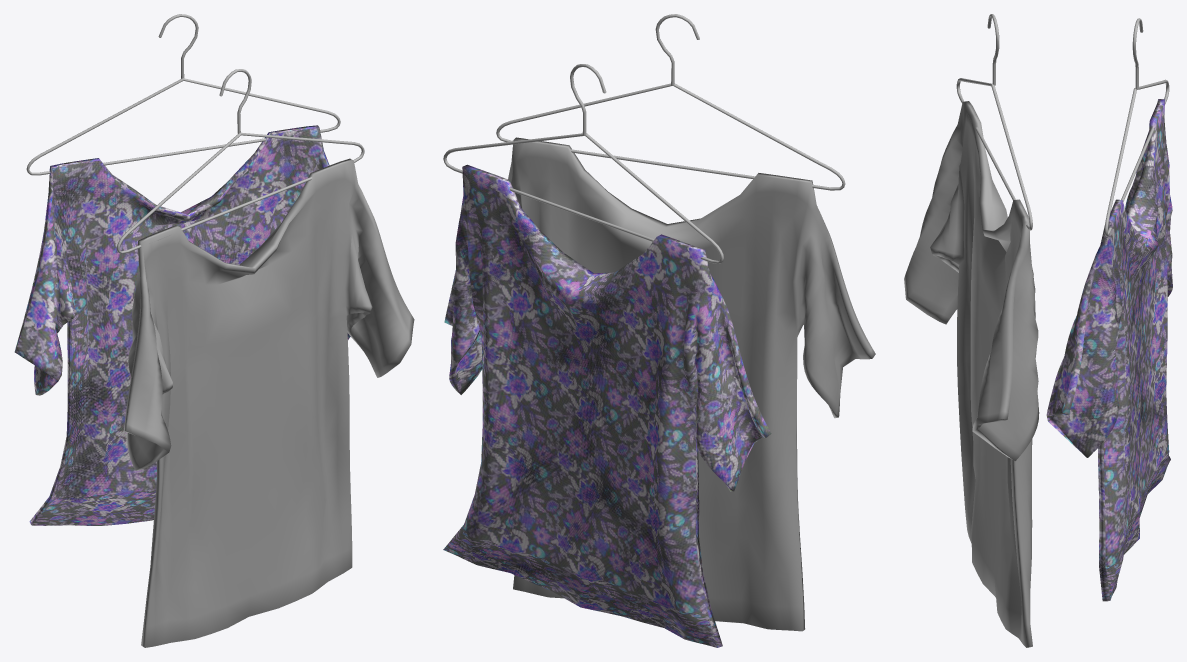
File: Clothes.fbx
The picture shows the model from 3 angles, left to right: view 1: azimuth 30°, elevation 25°; view 2: azimuth 150°, elevation 25°; view 3: azimuth 270°, elevation 25°; orthographic projection. The views are drawn at different scales.
Visible parts, largest first — view 1: ClothesV02, ClothesV01; view 2: ClothesV01, ClothesV02; view 3: ClothesV02, ClothesV01.
Part boxes in pixels (bbox=[...]): ClothesV02: bbox=[116, 69, 414, 647]; ClothesV01: bbox=[14, 14, 350, 525]; ClothesV01: bbox=[443, 64, 771, 647]; ClothesV02: bbox=[496, 14, 875, 631]; ClothesV02: bbox=[904, 14, 1039, 647]; ClothesV01: bbox=[1046, 18, 1172, 601].
Size of the model in its own units: 52.97 by 83.39 by 35.2.
2 materials, 1 textured.
